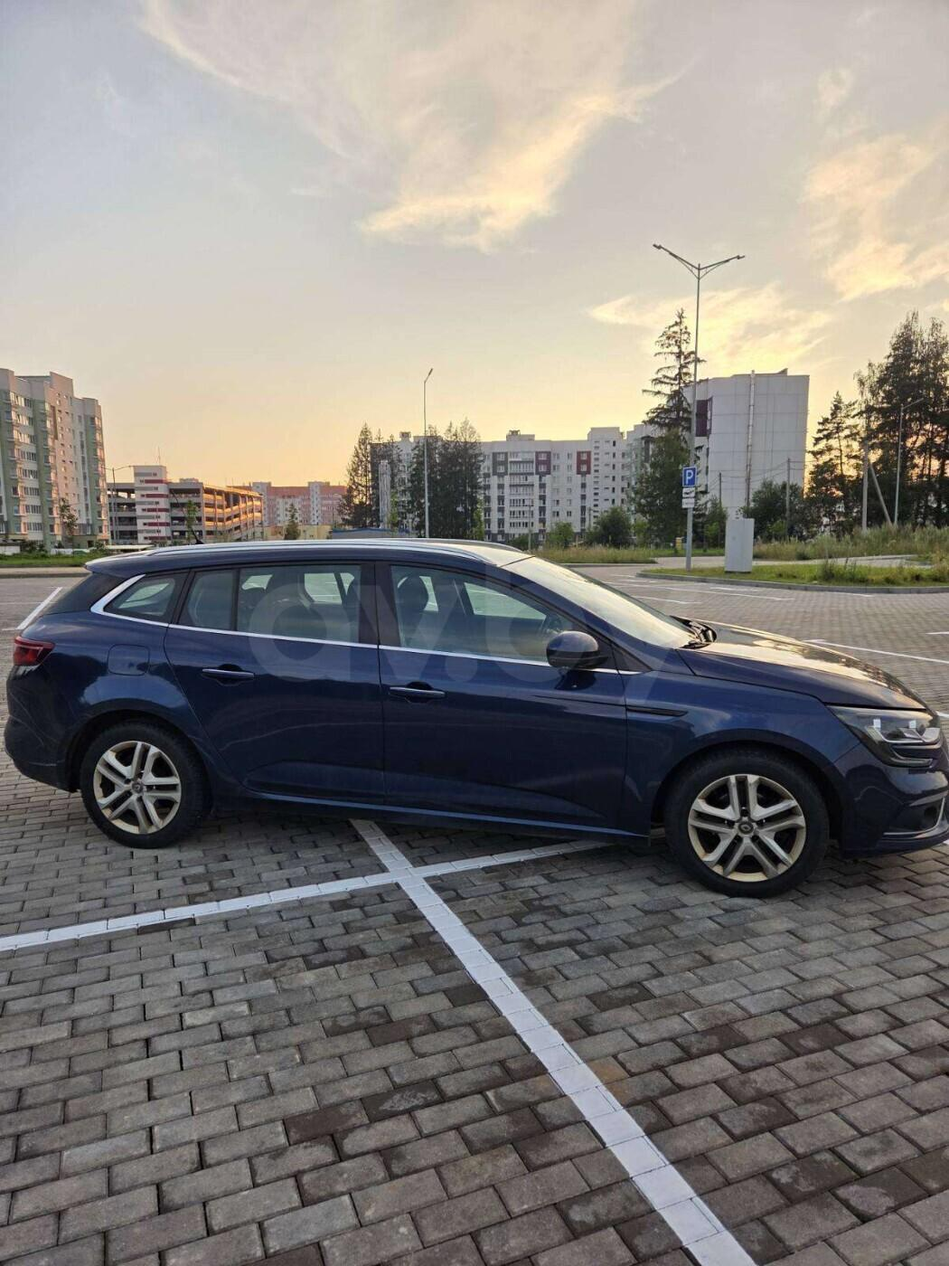Megane_2016-2020: (5, 532, 947, 933)
